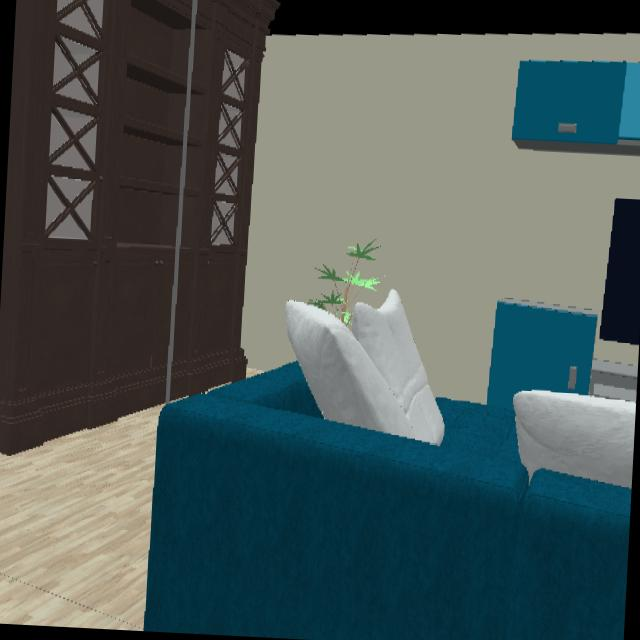cabinet: (488, 299, 638, 414), (512, 61, 640, 155)
monitor: (598, 198, 640, 348)
pillow: (284, 290, 446, 445), (512, 389, 636, 491)
sofa: (142, 364, 631, 640)
